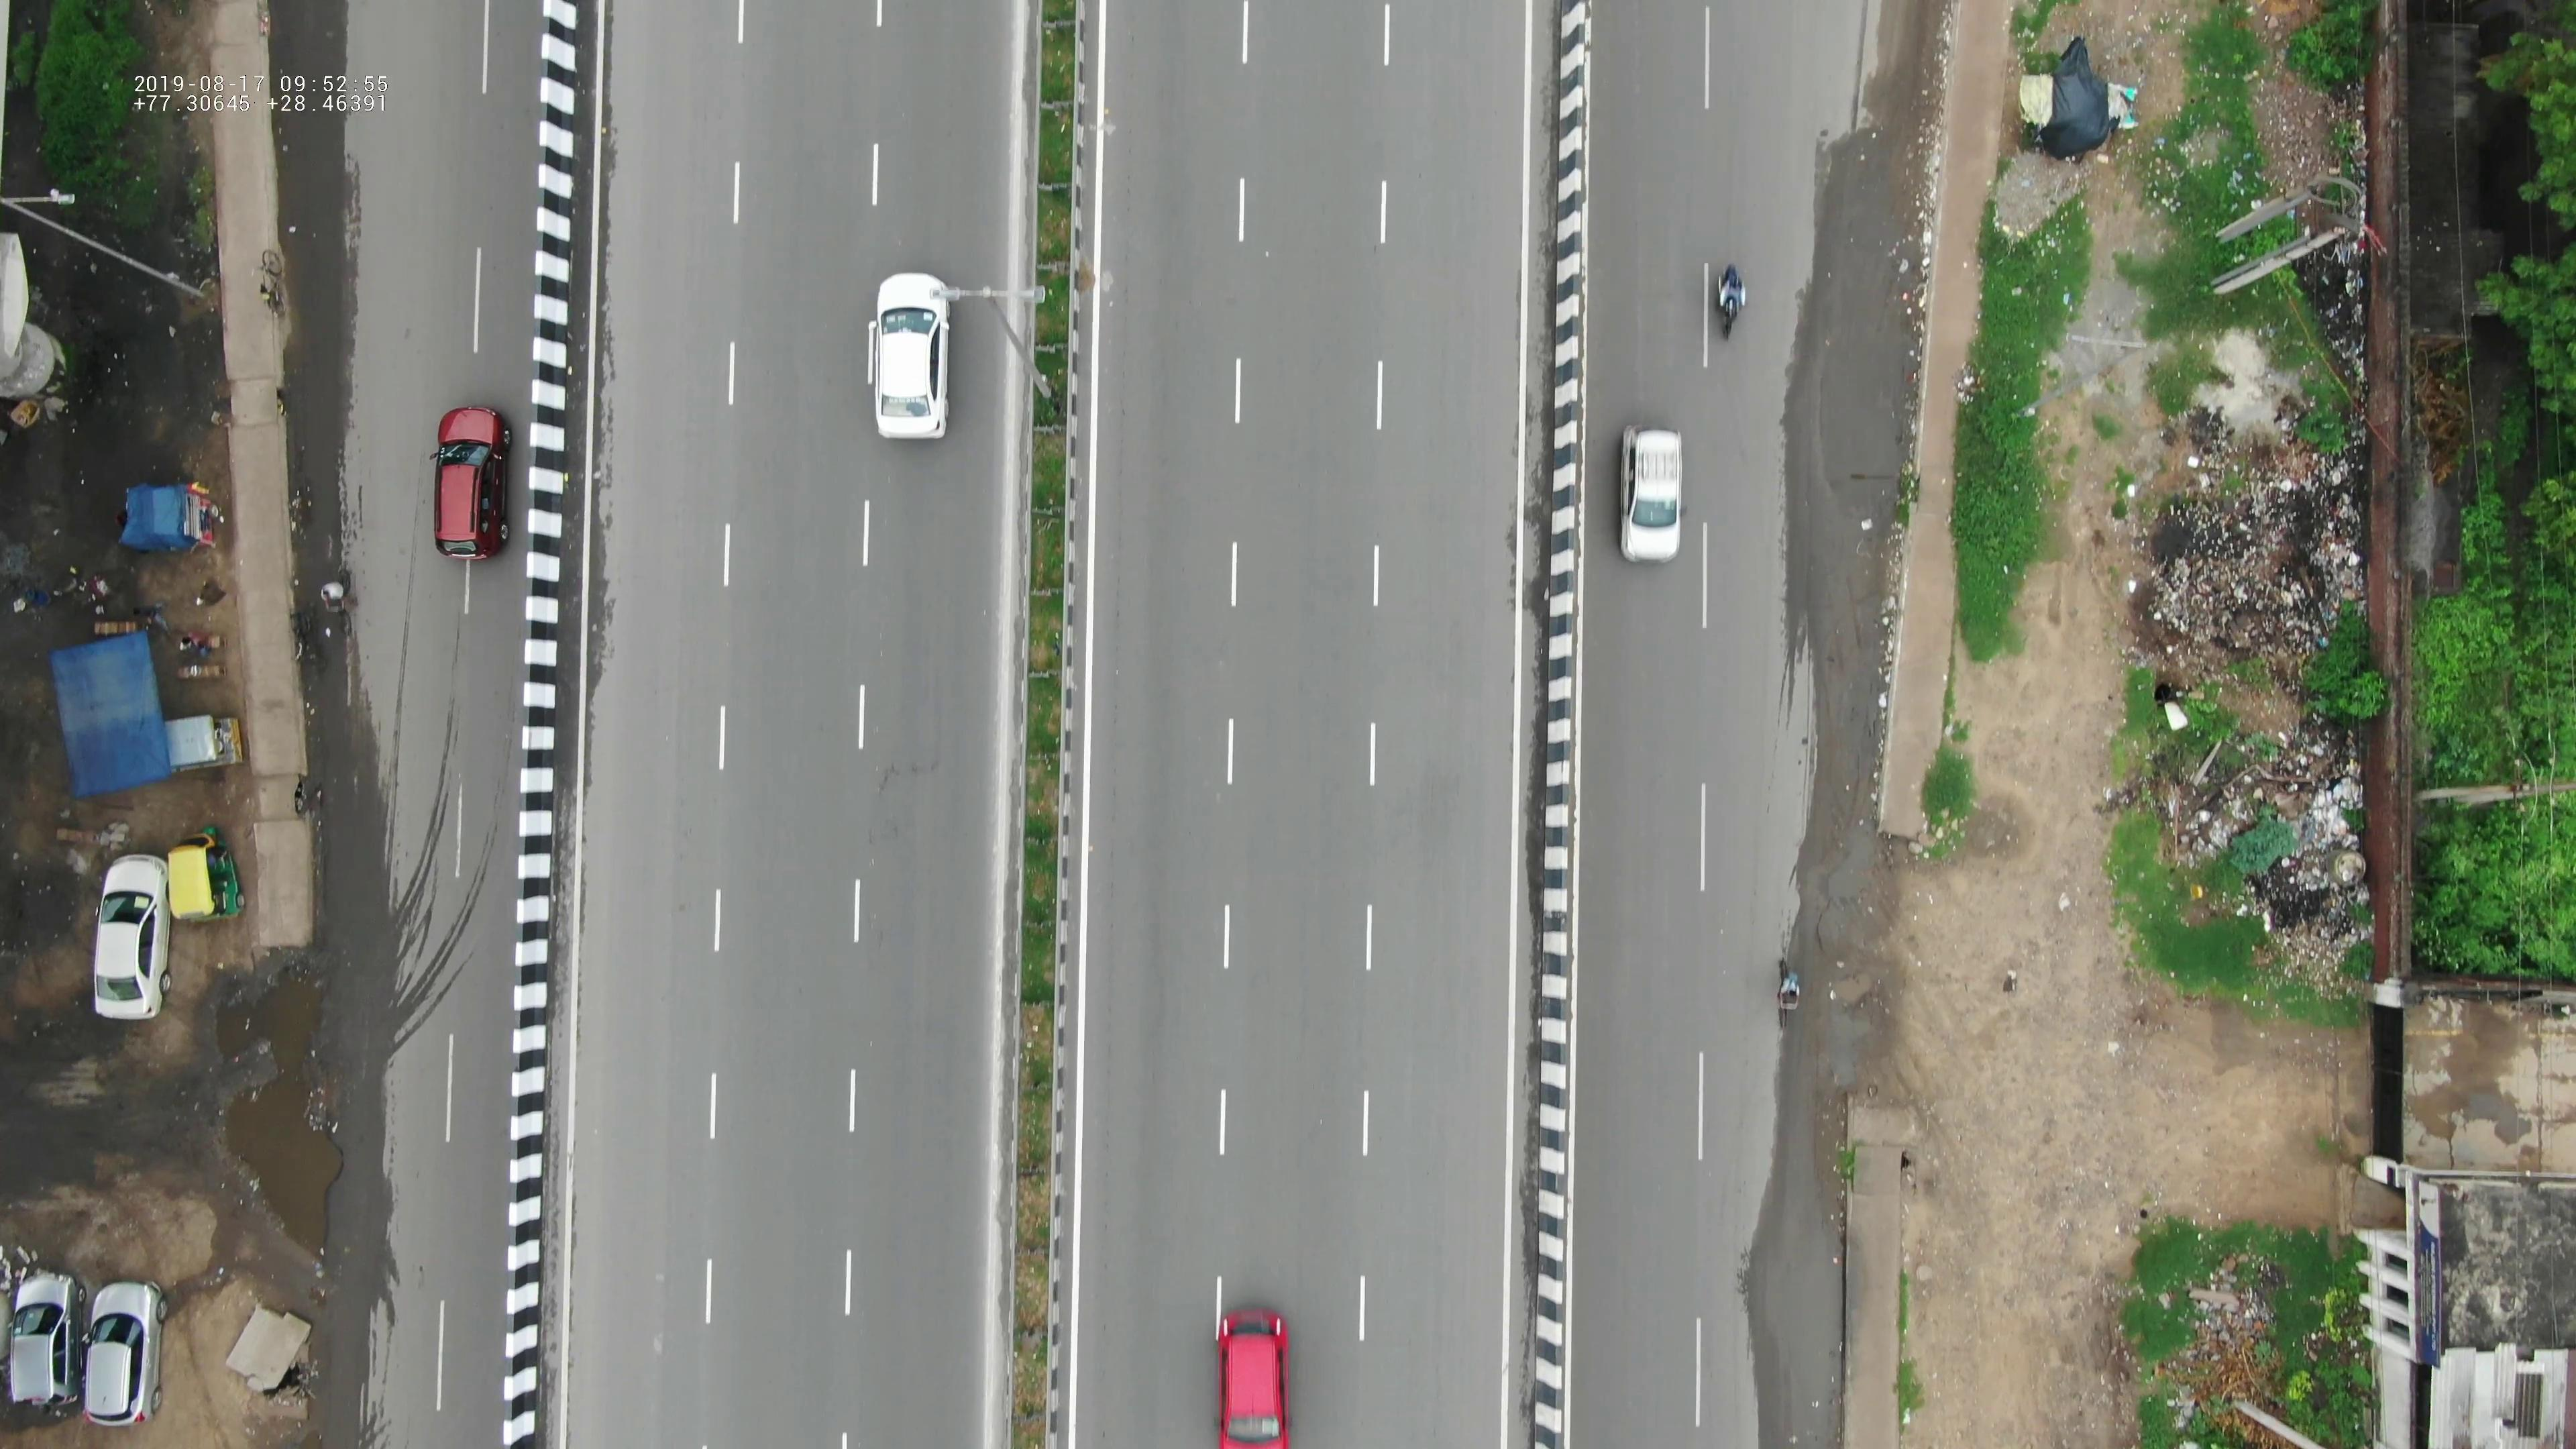Road_side_garbage: (2125, 449, 2373, 941), (2118, 1238, 2286, 1410)
Waterlogging: (195, 939, 364, 1253), (1783, 235, 1923, 559), (1776, 1093, 1879, 1235)
